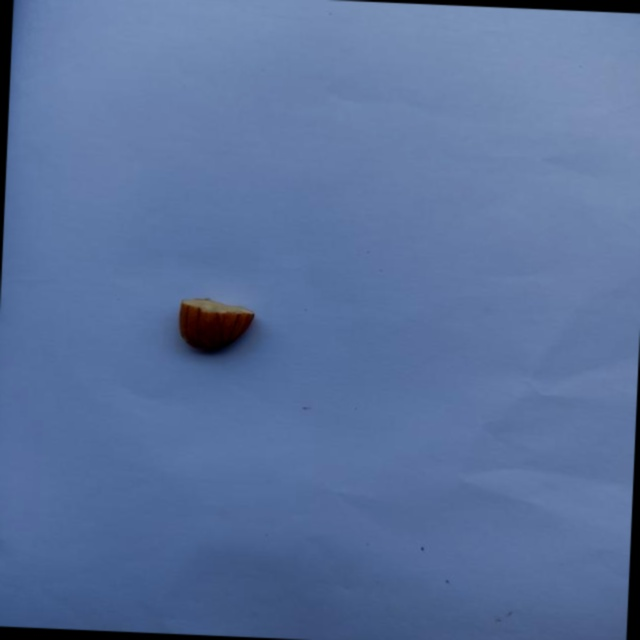grade4: (170, 293, 264, 359)
